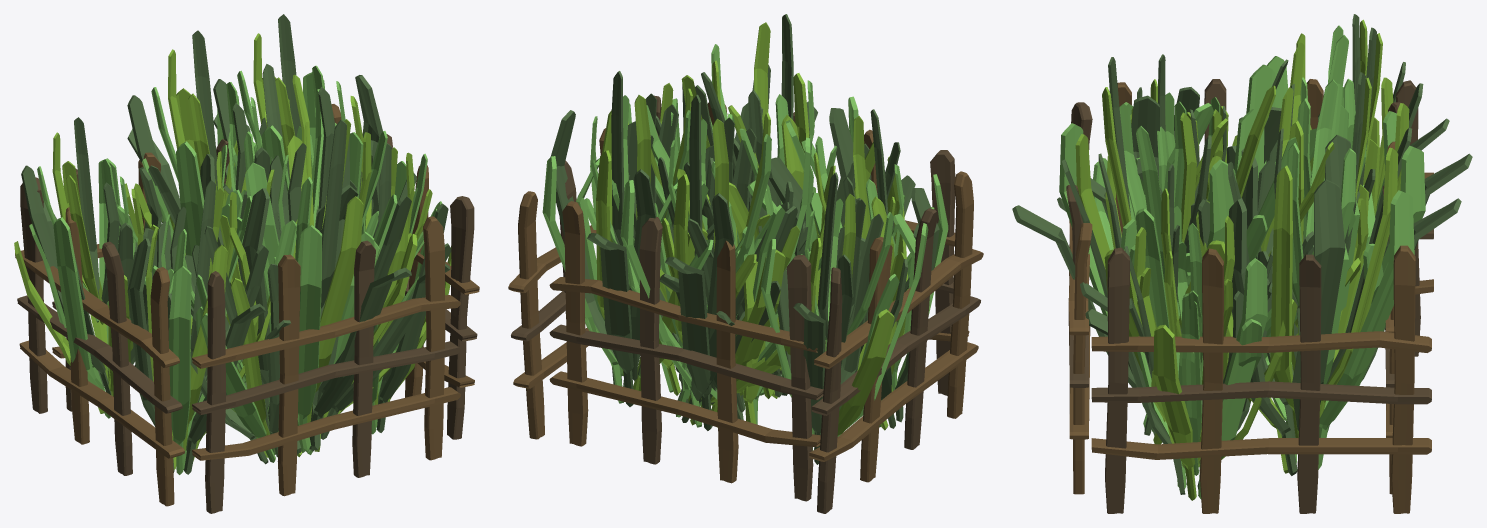
File: ShrubFencedIn 1.fbx
The picture shows the model from 3 angles, left to right: view 1: azimuth 30°, elevation 25°; view 2: azimuth 150°, elevation 25°; view 3: azimuth 270°, elevation 25°; orthographic projection. The views are drawn at different scales.
Parts seen in each view (by area): view 1: Cube.003, Shrub.006, Cube.007, Shrub.011, Shrub.009, Shrub.010, Shrub.013, Shrub.003, Shrub.002, Cube.006, Shrub.012, Shrub.004 (+3 smaller); view 2: Cube.004, Cube.007, Shrub.010, Shrub.013, Shrub.011, Shrub.006, Shrub.009, Cube.006, Shrub.002, Shrub.007, Shrub.008, Cube.003 (+2 smaller); view 3: Cube.006, Shrub.013, Shrub.006, Shrub.012, Shrub.010, Shrub.002, Cube.003, Shrub.011, Shrub.004, Cube.007, Shrub.009, Shrub.003 (+3 smaller).
Part boxes in pixels (box(x1,y1,x2,y2)): Cube.003: box(192, 216, 460, 513); Shrub.006: box(238, 119, 417, 452); Cube.007: box(15, 177, 184, 506); Shrub.011: box(14, 117, 162, 418); Shrub.009: box(127, 179, 270, 474); Shrub.010: box(124, 30, 289, 308); Shrub.013: box(213, 14, 382, 237); Shrub.003: box(167, 215, 290, 464); Shrub.002: box(200, 64, 371, 457); Cube.006: box(331, 104, 479, 439); Shrub.012: box(315, 143, 451, 434); Shrub.004: box(321, 173, 451, 439); Cube.004: box(549, 201, 825, 501); Cube.007: box(809, 171, 983, 513); Shrub.010: box(620, 94, 812, 430); Shrub.013: box(542, 71, 734, 406); Shrub.011: box(761, 172, 928, 464); Shrub.006: box(671, 14, 858, 398); Shrub.009: box(781, 109, 948, 430); Cube.006: box(508, 95, 661, 439); Shrub.002: box(611, 72, 813, 398); Shrub.007: box(623, 157, 777, 424); Shrub.008: box(676, 202, 821, 425); Cube.003: box(707, 102, 969, 395); Cube.006: box(1091, 245, 1431, 513); Shrub.013: box(1196, 72, 1461, 475); Shrub.006: box(1012, 57, 1274, 435); Shrub.012: box(1080, 164, 1297, 500); Shrub.010: box(1208, 27, 1472, 424); Shrub.002: box(1137, 59, 1360, 444); Cube.003: box(1066, 102, 1092, 494); Shrub.011: box(1232, 14, 1449, 217); Shrub.004: box(1085, 225, 1272, 422); Cube.007: box(1115, 79, 1433, 356); Shrub.009: box(1090, 54, 1228, 223); Shrub.003: box(1057, 87, 1209, 250).
Size of the model in its own units: 229 by 227 by 226.
